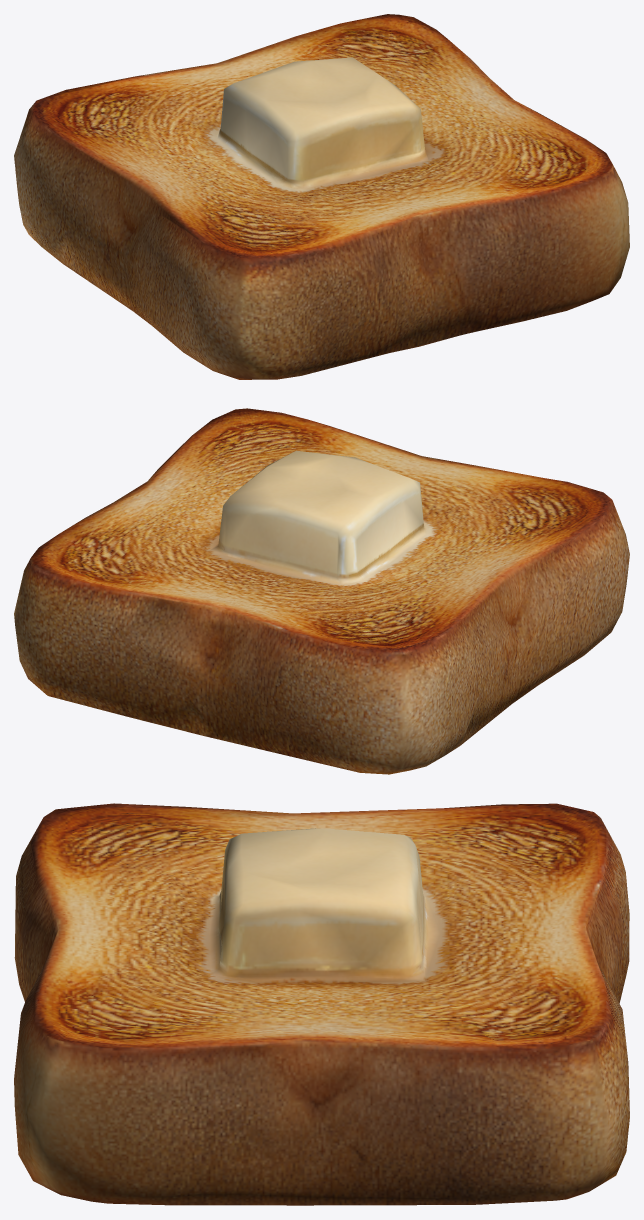
File: Food_Butter.fbx
3 renders of one model, top to bottom at view 1: azimuth 30°, elevation 25°; view 2: azimuth 150°, elevation 25°; view 3: azimuth 270°, elevation 25°, orthographic. The views are drawn at different scales.
Parts seen in each view (by area): view 1: Food_Butter; view 2: Food_Butter; view 3: Food_Butter.
Boxes of the visible parts, box(x1,y1,x2,y2) form: Food_Butter: box(14, 14, 629, 379); Food_Butter: box(14, 408, 629, 774); Food_Butter: box(14, 803, 629, 1205).
Size of the model in its own units: 0.26 by 0.1125 by 0.2597.
Materials: 1 (1 with a texture image).
